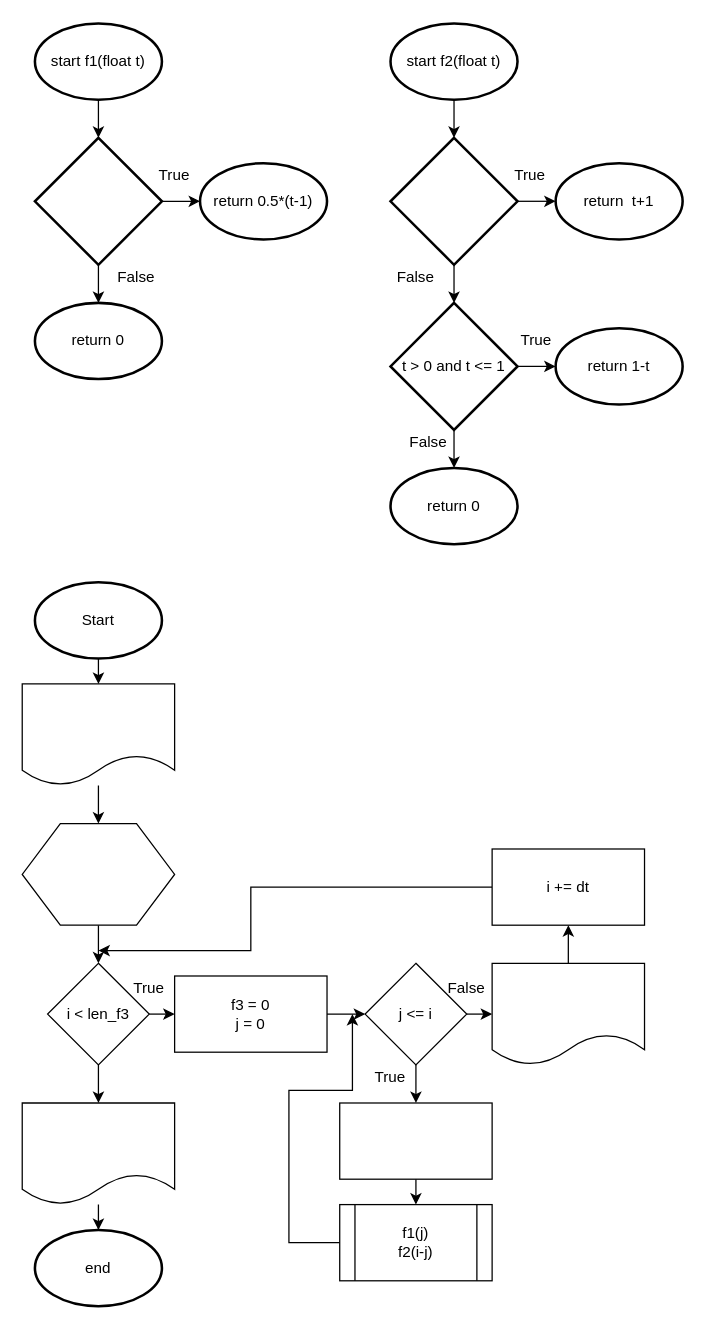
The diagram is 706 pixels wide and 1328 high, and some of its shapes have lost their labels. The shapes that lost their labels are listed below. From the top down, each one's centre as x and y in pixels, then its label:
At (x=98, y=200): "t >= 1 && t <= 3".
At (x=453, y=200): "t >= 1 && t <= 0".
At (x=98, y=734): "membuka file fopen quiz5.txt".
At (x=98, y=873): "float i = 0 float j, i1, f3 float len_f3 = 6 float dr = 0.001".
At (x=568, y=1013): "fprintf (fp, i, f3)".
At (x=98, y=1153): "menutup file fp".
At (x=415, y=1140): "f3 += f1(j) * f2(i-j) * dt j += dt".
